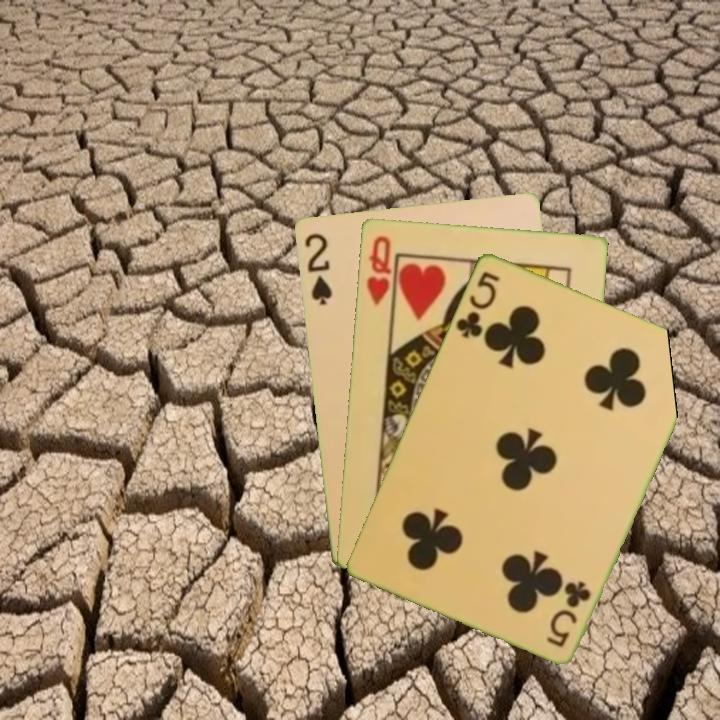2s: (300, 229, 335, 308)
5c: (451, 267, 502, 341), (543, 576, 593, 650)
Qh: (362, 232, 394, 308)
